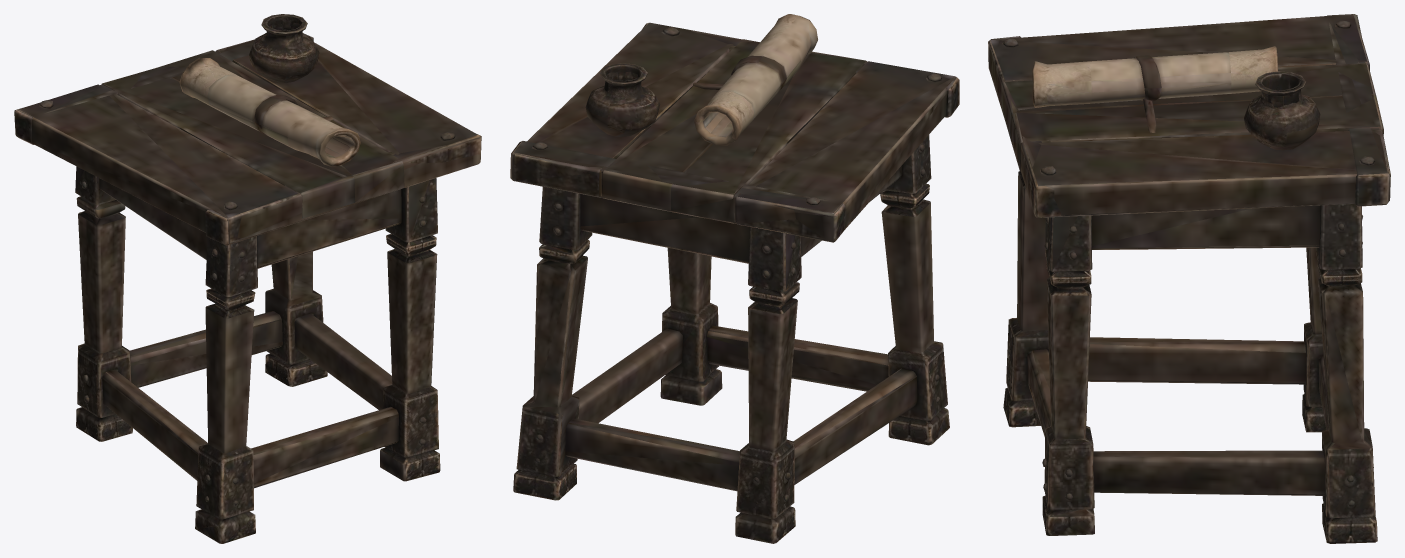
The model's file is d_table_small_decorated_A.glb.
The picture shows the model from 3 angles, left to right: view 1: azimuth 30°, elevation 25°; view 2: azimuth 150°, elevation 25°; view 3: azimuth 270°, elevation 25°; orthographic projection. The views are drawn at different scales.
Visible parts, largest first — view 1: d_table_small_decorated_A; view 2: d_table_small_decorated_A; view 3: d_table_small_decorated_A.
Part boxes in pixels (x1=…): d_table_small_decorated_A: x1=14, y1=14, x2=481, y2=543; d_table_small_decorated_A: x1=510, y1=14, x2=959, y2=543; d_table_small_decorated_A: x1=988, y1=14, x2=1390, y2=543.
Bounding box in the file's own units: 1.04 × 1.17 × 1.
1 material, 1 textured.
